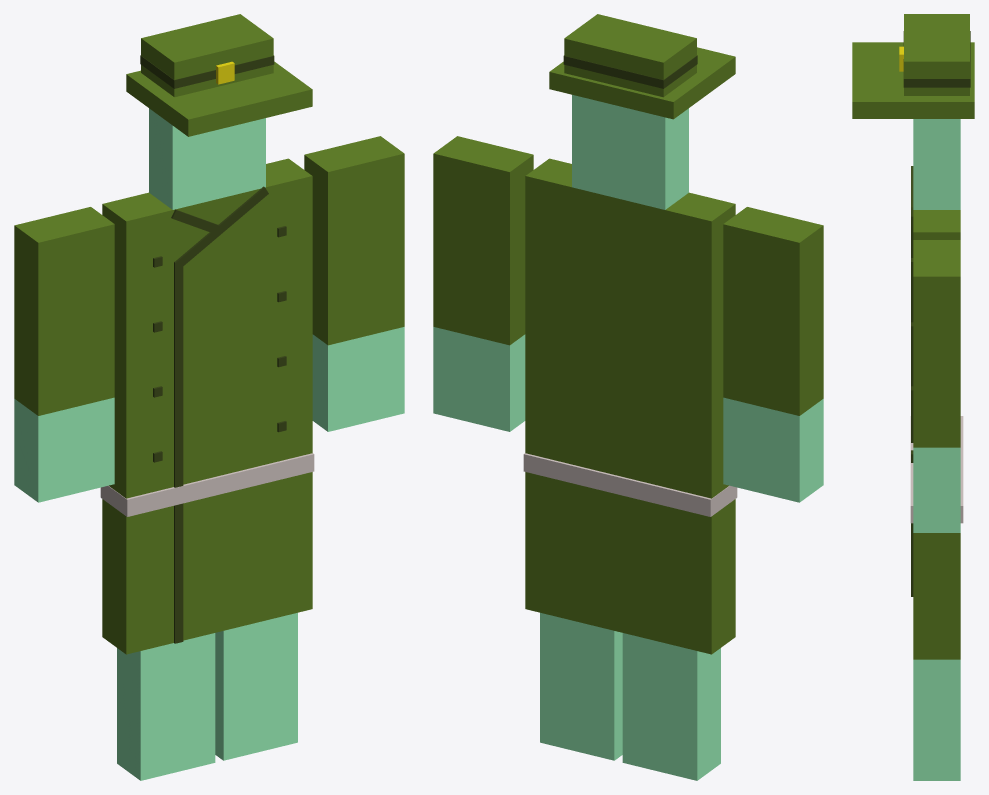
File: UndeadCommander.fbx
3 renders of one model, left to right at view 1: azimuth 30°, elevation 25°; view 2: azimuth 150°, elevation 25°; view 3: azimuth 270°, elevation 25°, orthographic.
Parts seen in each view (by area): view 1: Cube.001, Cube.005, Cube.004, Cube.003, Cube.002, Cube.023, Cube.006, Cube.024, Cube.008, Cube.007, Cube.022, Cube.013 (+2 smaller); view 2: Cube.001, Cube.005, Cube.004, Cube.003, Cube.002, Cube.006, Cube.023, Cube.024, Cube.007, Cube.008, Cube.022, Cube.009; view 3: Cube.004, Cube.001, Cube.002, Cube.008, Cube.007, Cube.006, Cube.024, Cube.013, Cube.022, Cube.009.
Part boxes in pixels (x1,y1,x2,y2): Cube.001: (102,158,312,654); Cube.005: (14,207,114,415); Cube.004: (304,136,404,345); Cube.003: (117,633,215,780); Cube.002: (215,612,297,760); Cube.023: (14,397,114,502); Cube.006: (149,108,265,209); Cube.024: (312,327,404,431); Cube.008: (126,61,312,136); Cube.007: (141,14,273,97); Cube.022: (100,453,314,516); Cube.013: (174,261,183,643); Cube.001: (525,158,735,654); Cube.005: (723,207,823,415); Cube.004: (433,136,533,345); Cube.003: (622,633,720,780); Cube.002: (540,612,622,760); Cube.006: (572,94,688,209); Cube.023: (723,397,823,502); Cube.024: (433,327,525,431); Cube.007: (564,14,696,97); Cube.008: (549,47,735,119); Cube.022: (523,453,737,516); Cube.009: (563,55,697,88); Cube.004: (913,240,960,447); Cube.001: (913,210,960,659); Cube.002: (913,659,960,780); Cube.008: (852,42,974,118); Cube.007: (904,14,969,95); Cube.006: (913,119,960,209); Cube.024: (913,447,960,532); Cube.013: (911,226,913,596); Cube.022: (910,416,963,523); Cube.009: (903,31,970,87).
Bounding box in the file's own units: 88.46 × 165 × 26.
